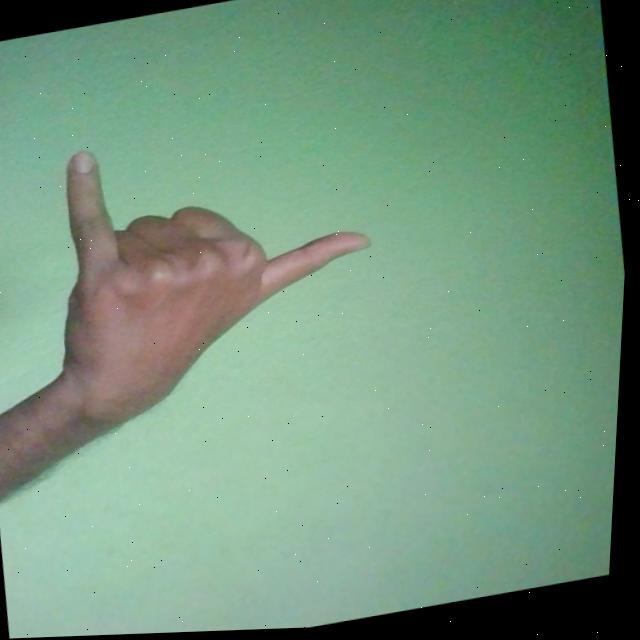Call Me: (32, 103, 397, 437)
